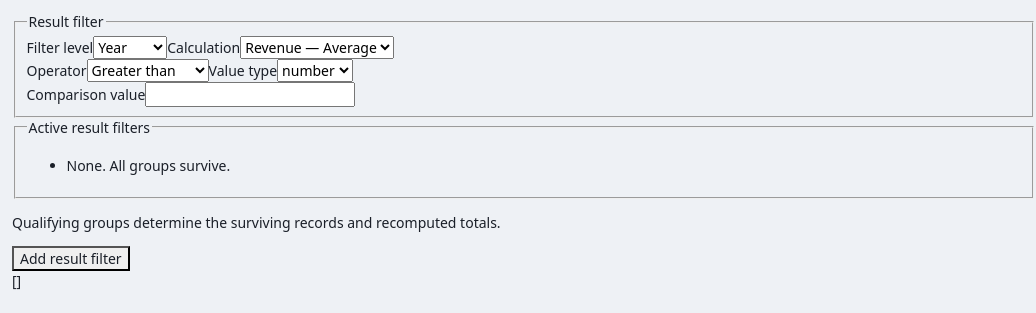
Test: result filters bind the chosen category level and measure instance
This screenshot has width=1036, height=313.
Select "Quarter" in the dropdown labelled "Filter level" at [130, 47], box [93, 36, 167, 59]
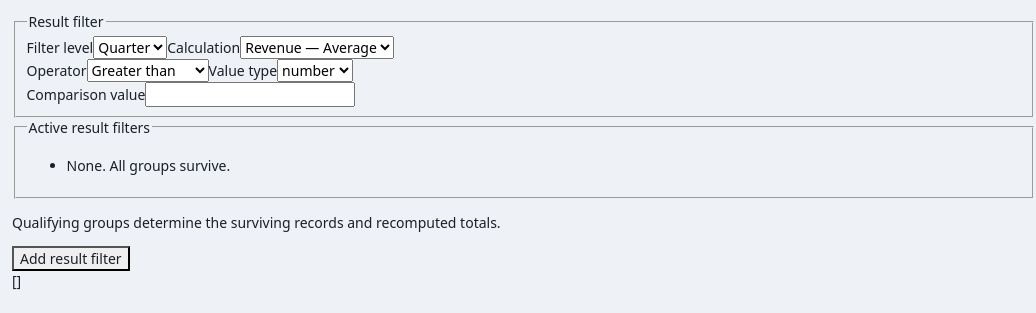
Type "20" into the field labelled "Comparison value" at [250, 94], box [145, 82, 355, 107]
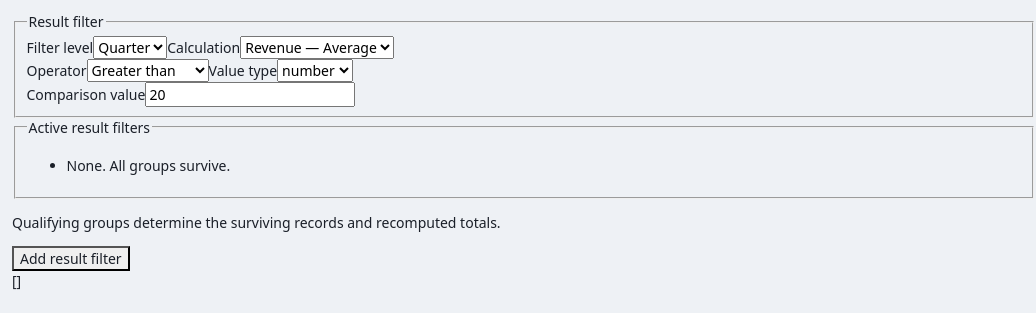
Click the button "Add result filter" at [71, 259], box [12, 246, 130, 271]
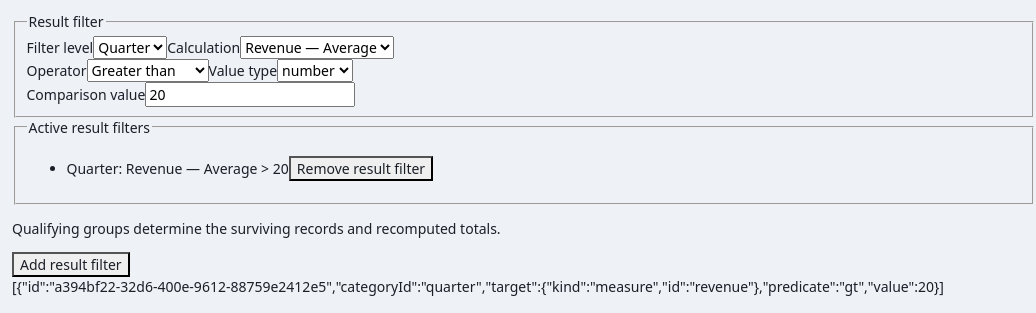
Expected: the text "\"kind\":\"measure\",\"id\":\"revenue\"" is shown, [12, 277, 944, 296]
